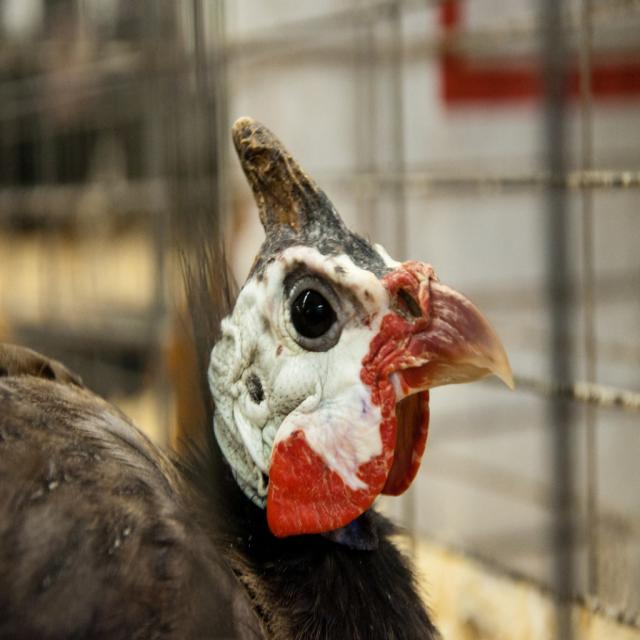Chicken: (0, 112, 518, 639)
